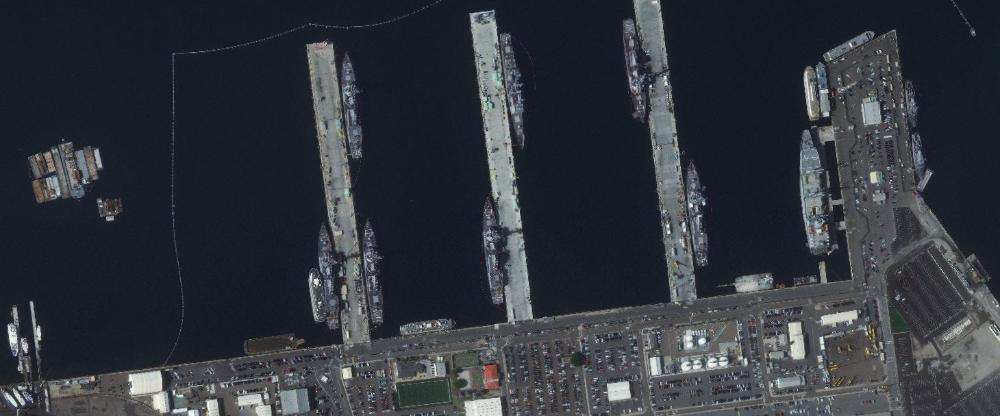destroyer: (495, 31, 534, 150)
fregate: (683, 155, 713, 273), (335, 50, 366, 162), (622, 18, 653, 126), (481, 195, 509, 308), (316, 223, 343, 333), (360, 217, 386, 326)
tender: (795, 131, 839, 259)
